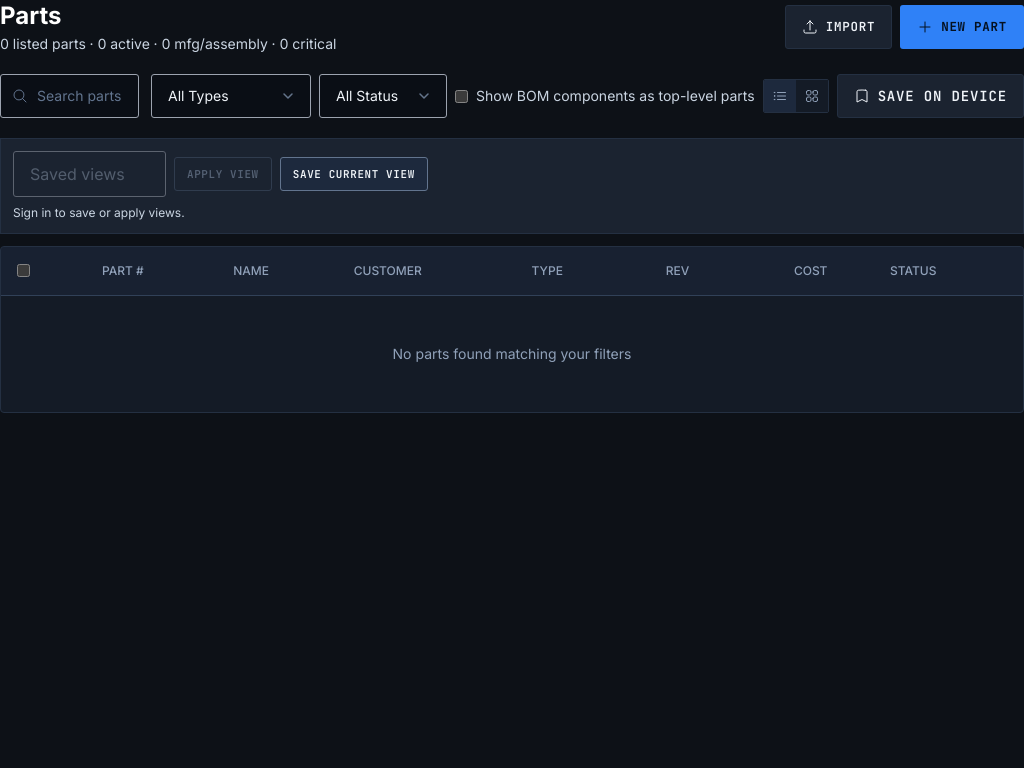
Test: PartsNew save-filter InputDialog › opens the naming dialog without persisting anything
Click the button "Save on device".
click(930, 96)  # box 837,74 -> 1023,118
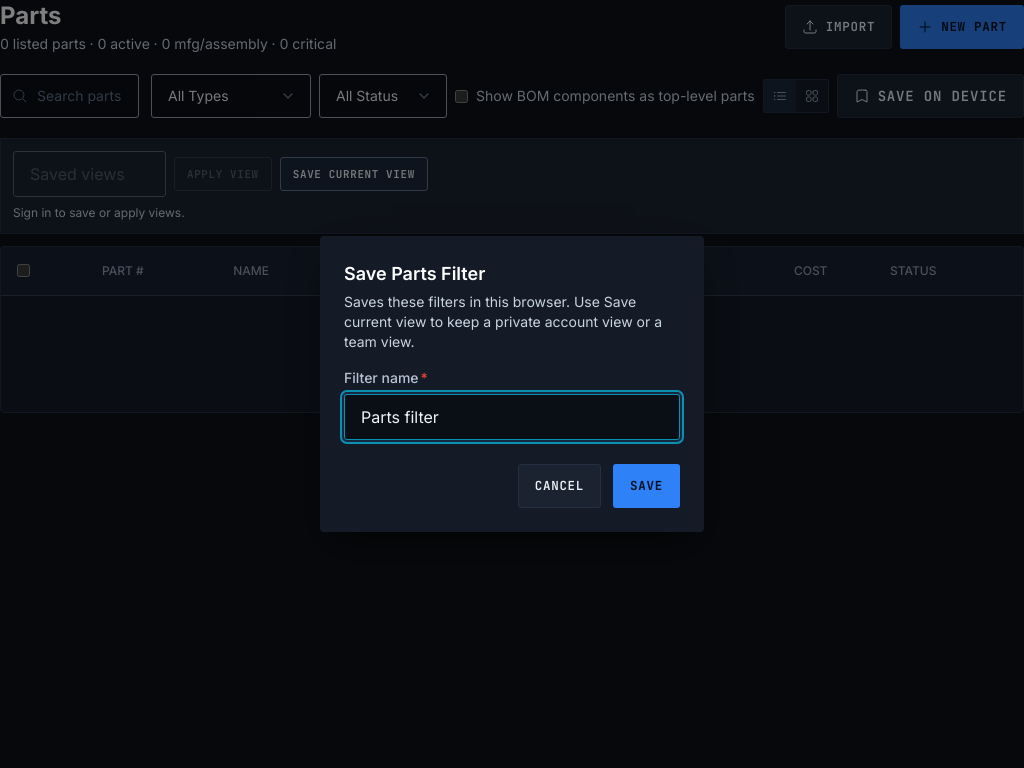
expect the heading "Save Parts Filter" is shown: met, box 344,263 -> 485,284
expect the field labelled "Filter name*" holds "Parts filter": met, box 344,394 -> 680,440
